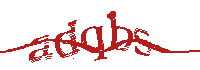a: (29, 35, 52, 62)
b: (107, 10, 132, 52)
d: (54, 20, 79, 58)
q: (82, 25, 108, 61)
s: (132, 27, 154, 56)
